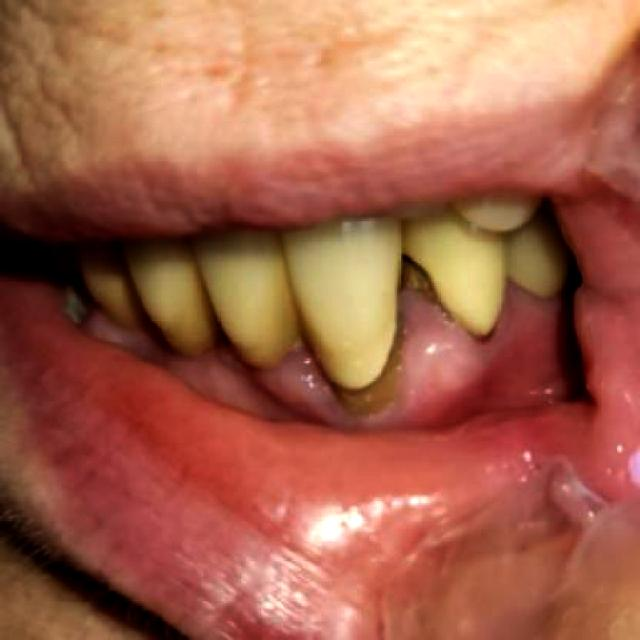Plaque: (384, 244, 449, 309)
